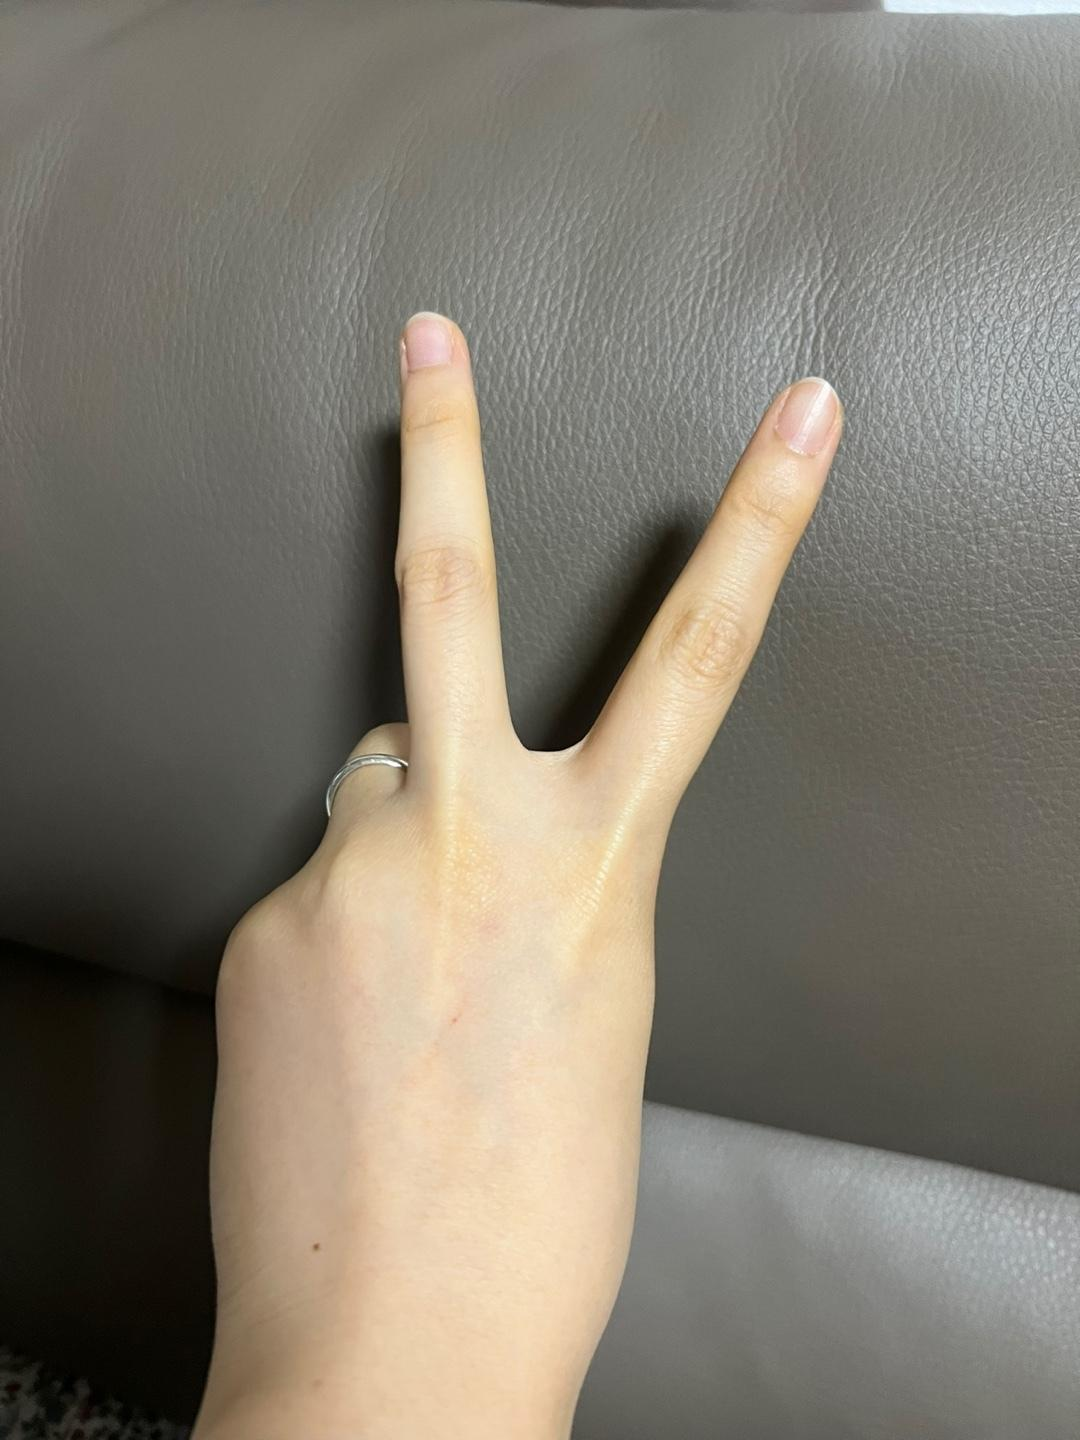v: (174, 296, 858, 1440)
